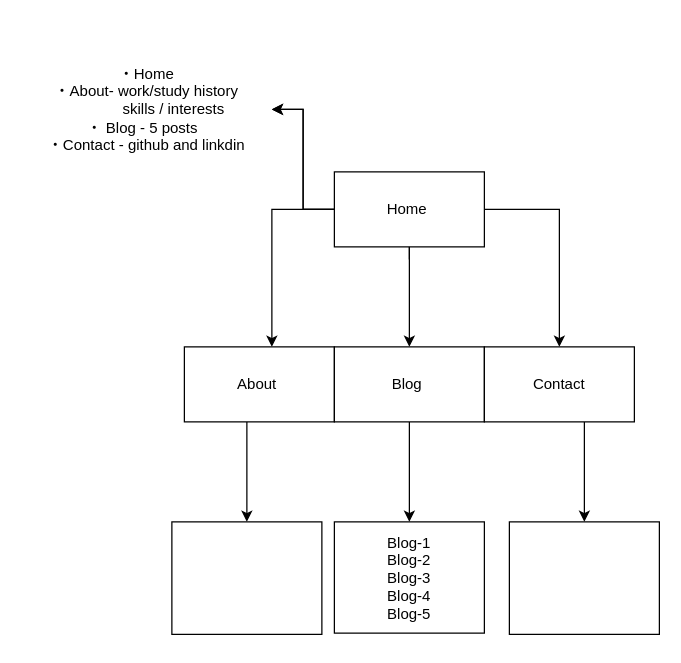
Image size: 681x663. Some labels were removed from this diagram. The shapes that lost their labels are listed below. From the top down, each one's centre as x and y in pixels, then its label:
(246,577): Name Contact details Work history Study history Skills Interests Resume(pdf)
(583,577): Company's name Email Tell Message
